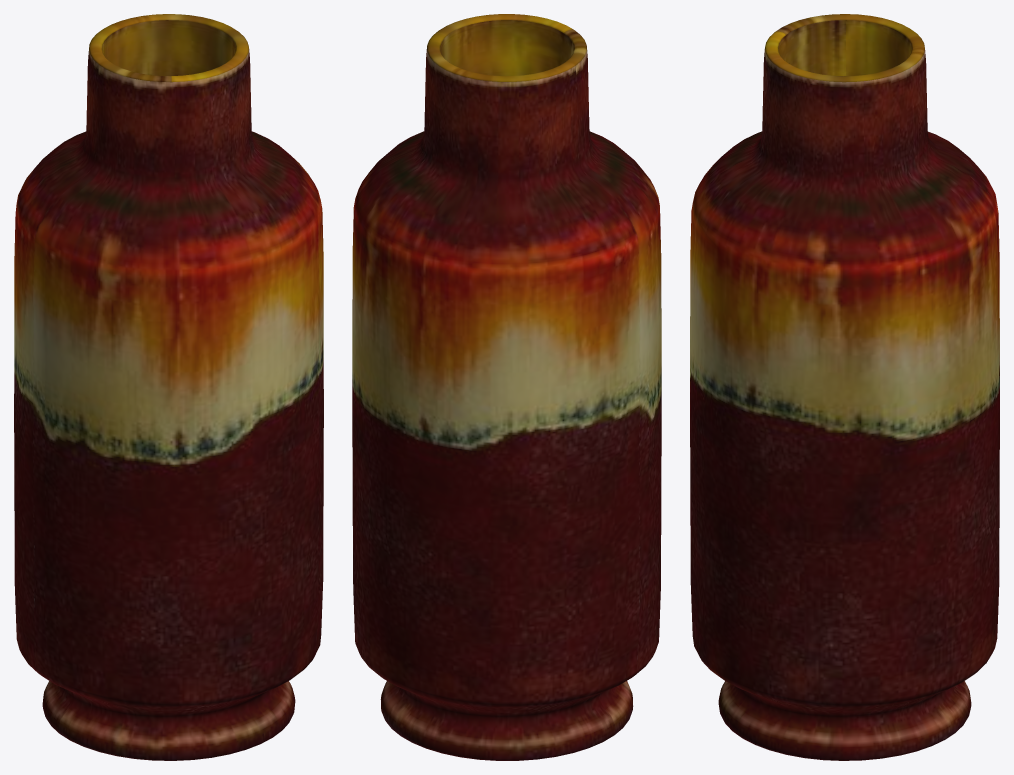
3 renders of one model, left to right at view 1: azimuth 30°, elevation 25°; view 2: azimuth 150°, elevation 25°; view 3: azimuth 270°, elevation 25°, orthographic.
Visible parts, largest first — view 1: RootNode; view 2: RootNode; view 3: RootNode.
Boxes of the visible parts, x1,y1,x2,y2 form: RootNode: (14, 14, 323, 760); RootNode: (352, 14, 661, 760); RootNode: (690, 14, 999, 760).
Bounding box in the file's own units: 0.1102 × 0.26 × 0.1102.
Materials: 1 (1 with a texture image).
